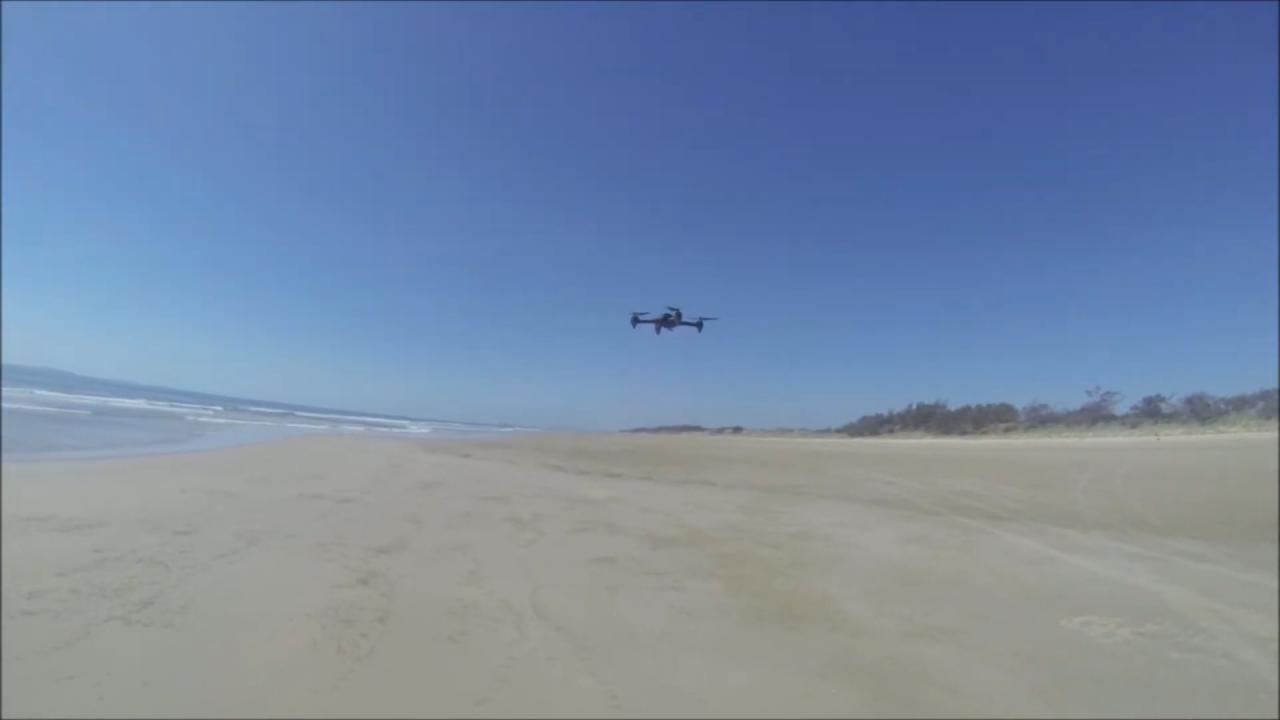Drone: (614, 296, 729, 350)
